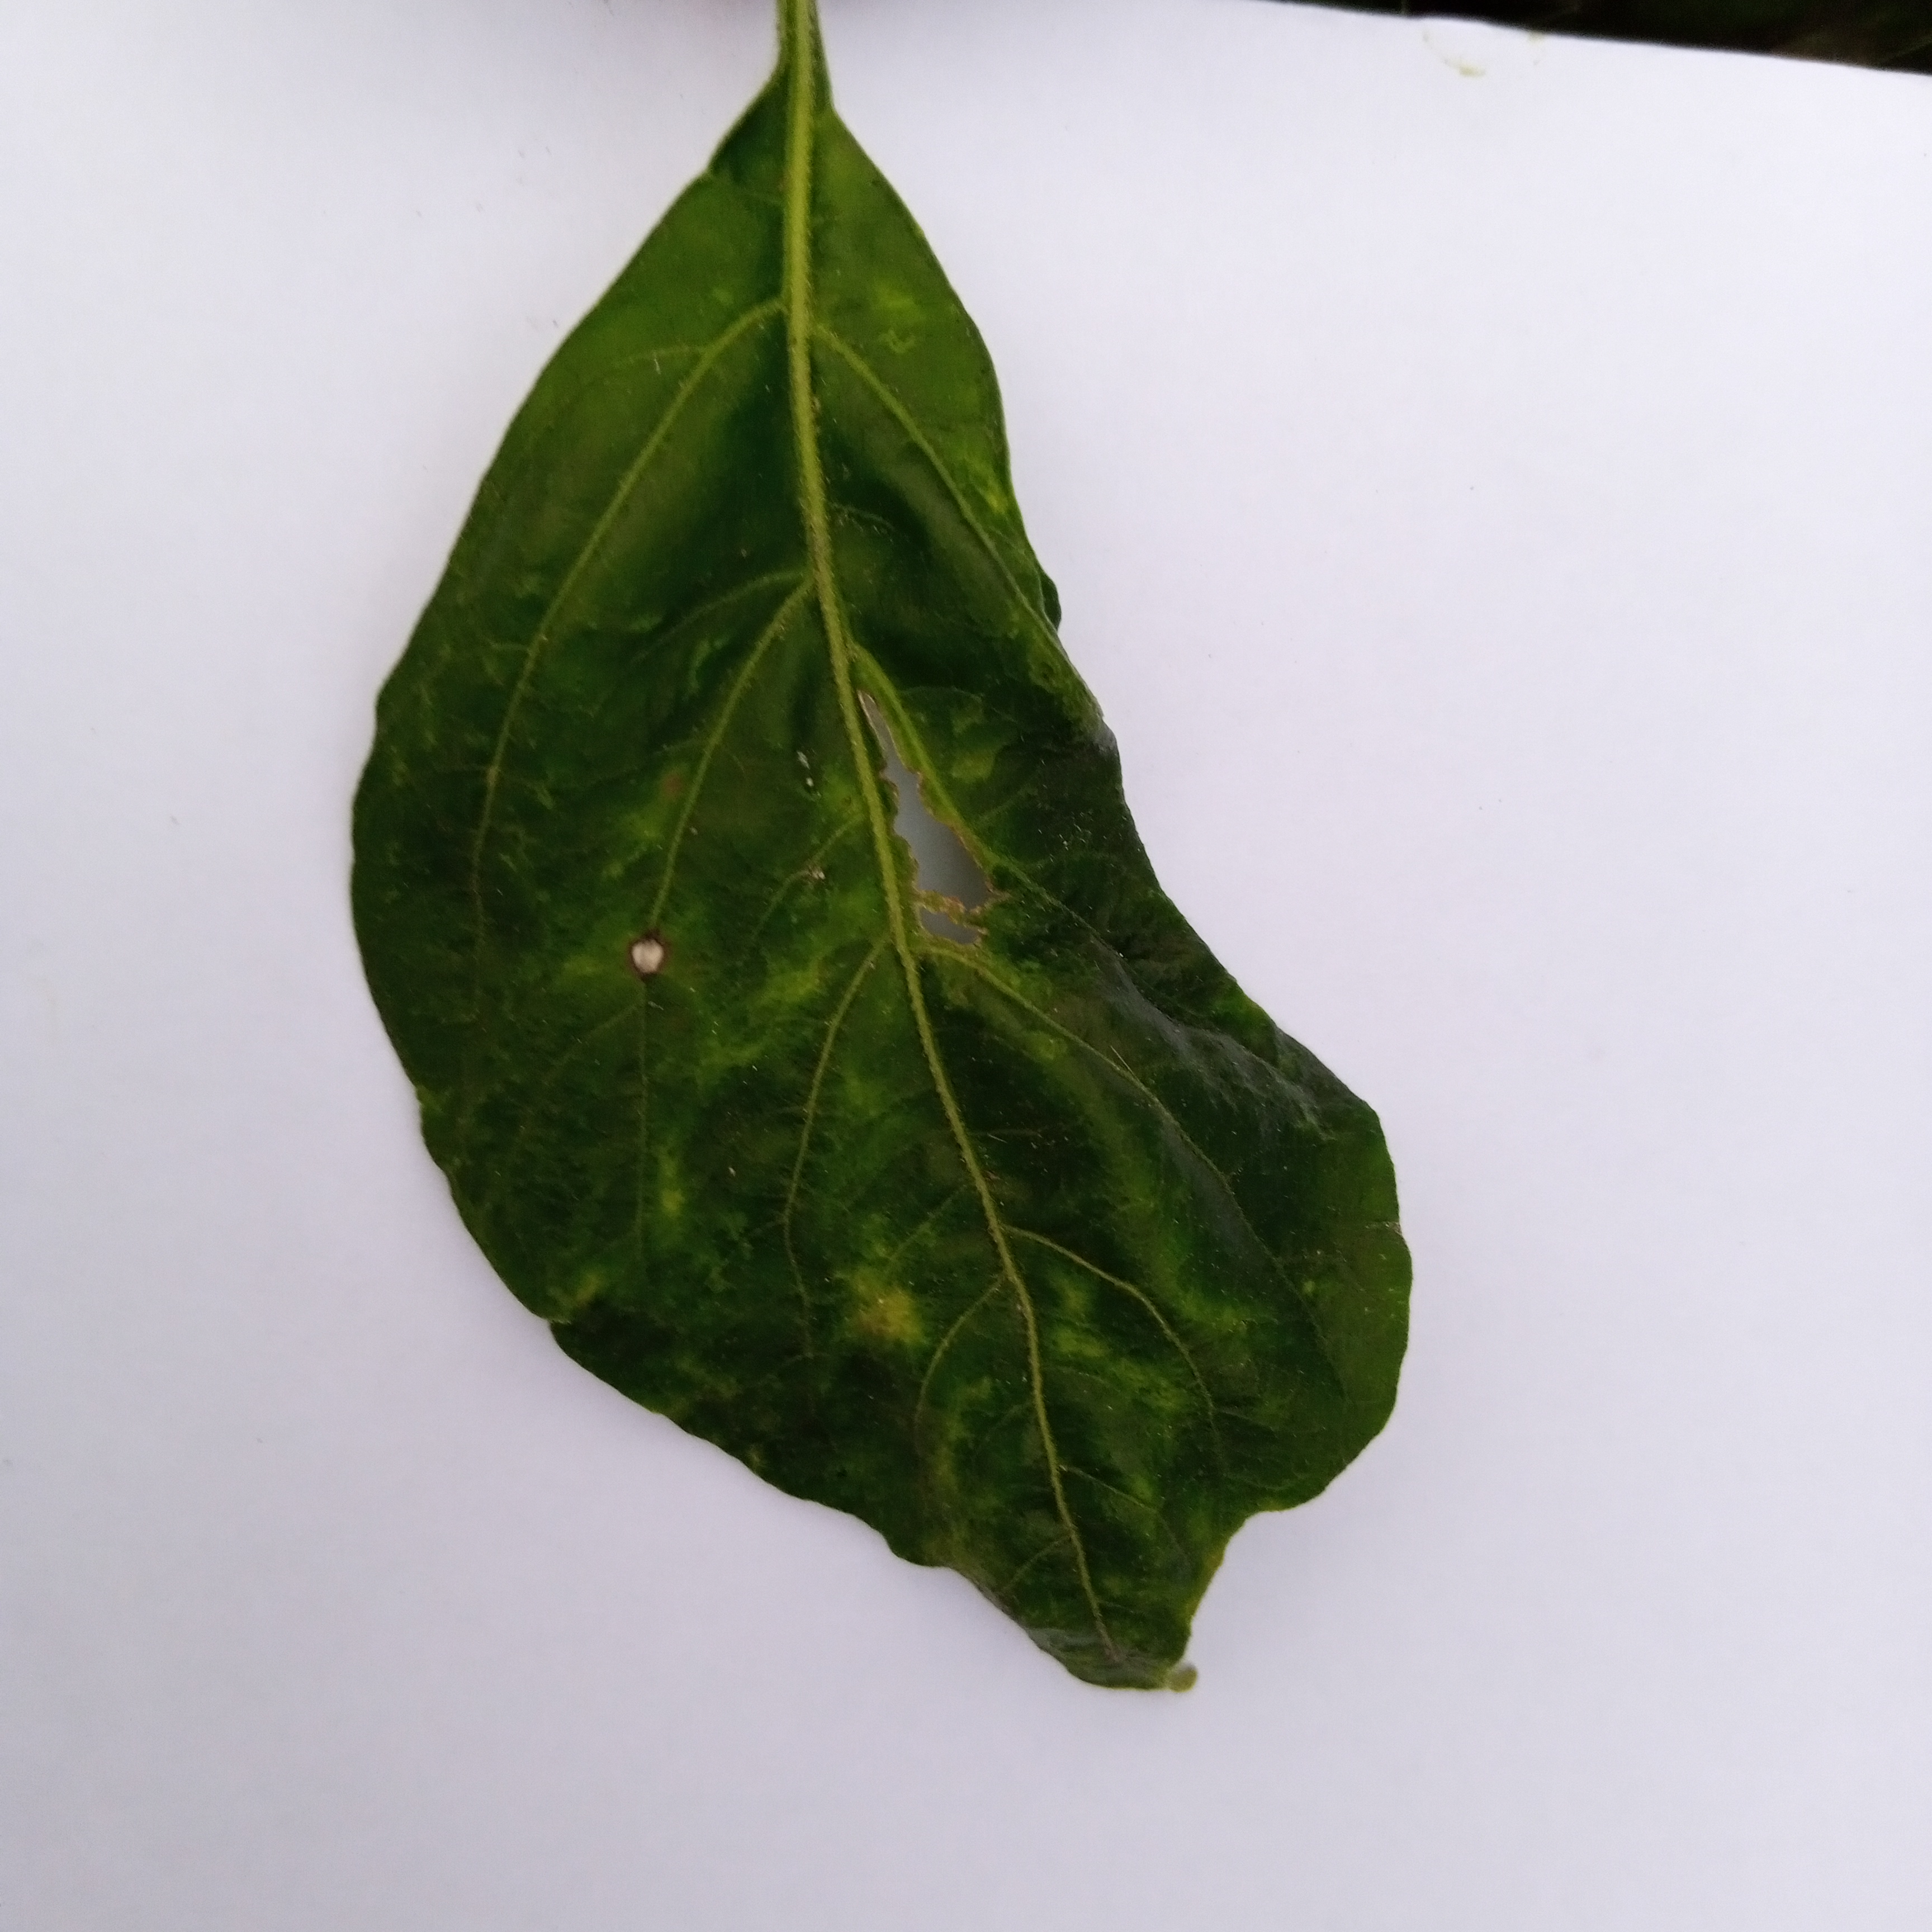Leaf: (271, 65, 1614, 1783)
